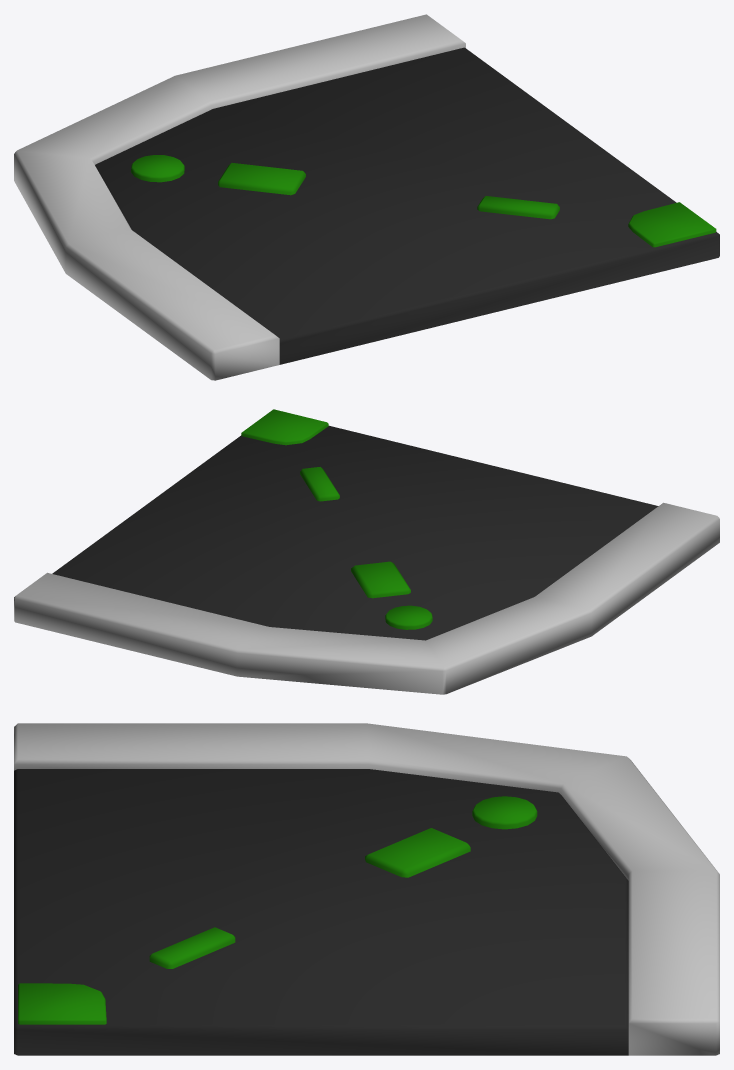
3 renders of one model, top to bottom at view 1: azimuth 30°, elevation 25°; view 2: azimuth 150°, elevation 25°; view 3: azimuth 270°, elevation 25°, orthographic. The views are drawn at different scales.
Parts seen in each view (by area): view 1: Tile_track4.002; view 2: Tile_track4.002; view 3: Tile_track4.002.
Boxes of the visible parts, x1,y1,x2,y2 form: Tile_track4.002: (14,14,719,380); Tile_track4.002: (14,409,719,694); Tile_track4.002: (14,723,719,1055).
Bounding box in the file's own units: 2.27 × 0.1283 × 2.27.
